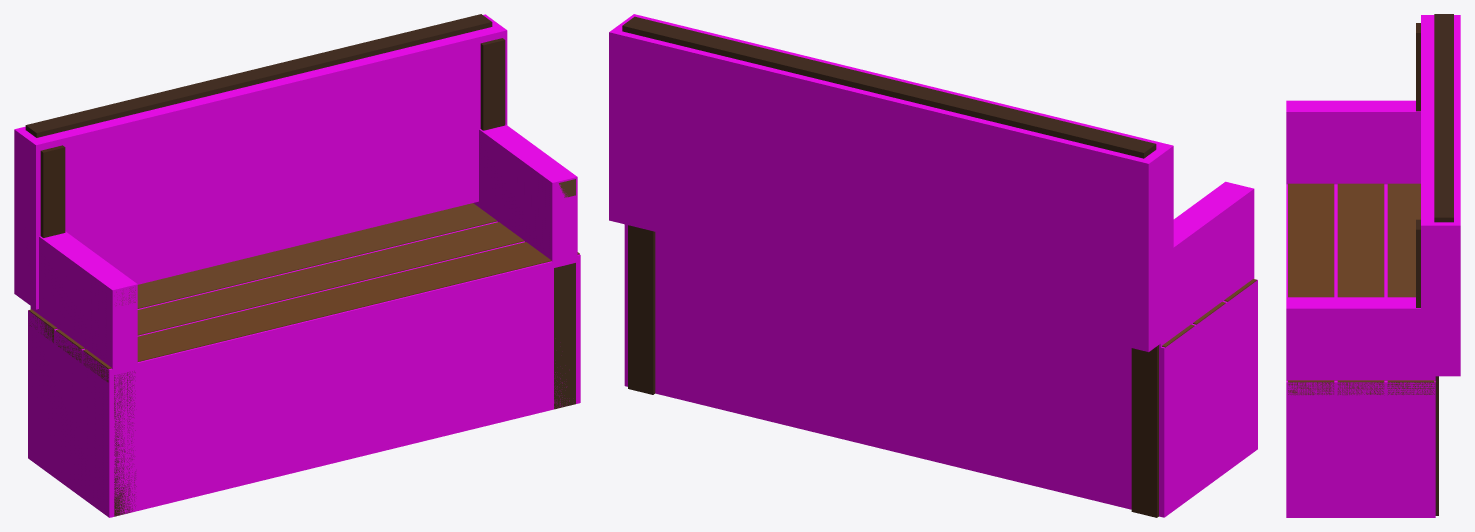
The model's file is PRP_Bench_Back_A.glb.
The picture shows the model from 3 angles, left to right: view 1: azimuth 30°, elevation 25°; view 2: azimuth 150°, elevation 25°; view 3: azimuth 270°, elevation 25°; orthographic projection. The views are drawn at different scales.
Parts seen in each view (by area): view 1: COL_Seat, COL_Backrest, PRP_Bench_Back_A_Mesh, COL_ArmR, COL_ArmL; view 2: COL_Backrest, COL_Seat, PRP_Bench_Back_A_Mesh, COL_ArmR; view 3: PRP_Bench_Back_A_Mesh, COL_Seat, COL_ArmL, COL_ArmR, COL_Backrest.
Part boxes in pixels (<box>): COL_Seat: <box>28,221,580,517</box>; COL_Backrest: <box>14,14,507,309</box>; PRP_Bench_Back_A_Mesh: <box>25,14,579,516</box>; COL_ArmR: <box>31,231,137,369</box>; COL_ArmL: <box>473,124,577,261</box>; COL_Backrest: <box>609,14,1173,351</box>; COL_Seat: <box>624,224,1257,517</box>; PRP_Bench_Back_A_Mesh: <box>622,16,1256,517</box>; COL_ArmR: <box>1159,181,1254,347</box>; PRP_Bench_Back_A_Mesh: <box>1288,14,1453,515</box>; COL_Seat: <box>1286,184,1435,517</box>; COL_ArmL: <box>1286,297,1435,380</box>; COL_ArmR: <box>1286,100,1420,184</box>; COL_Backrest: <box>1421,15,1460,376</box>.
Size of the model in its own units: 1.5 by 0.985 by 0.525.
